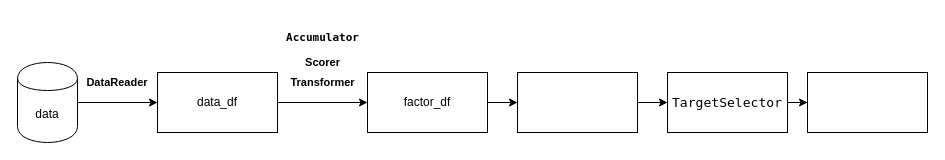
Image size: 945x160. Some labels were removed from this diagram. Here are the shapes that lost their labels. From the top down, the centre of each, then its label:
(x=577, y=102): result_df
(x=867, y=102): Trader
